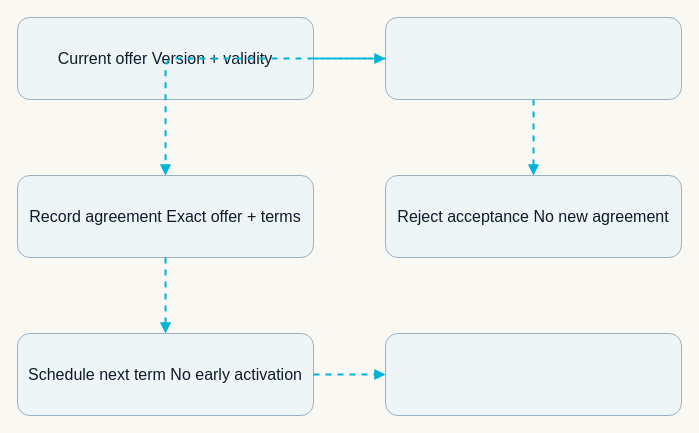
Some shapes in this 699 by 433 pixel diagram are drawn without their labels. Here are the shapes that lost their labels. From the top down, the box of each, then its label:
(384, 16, 682, 100): Acceptance checks Buyer + consent + policy
(384, 332, 682, 416): Activate at start Verify both effects
